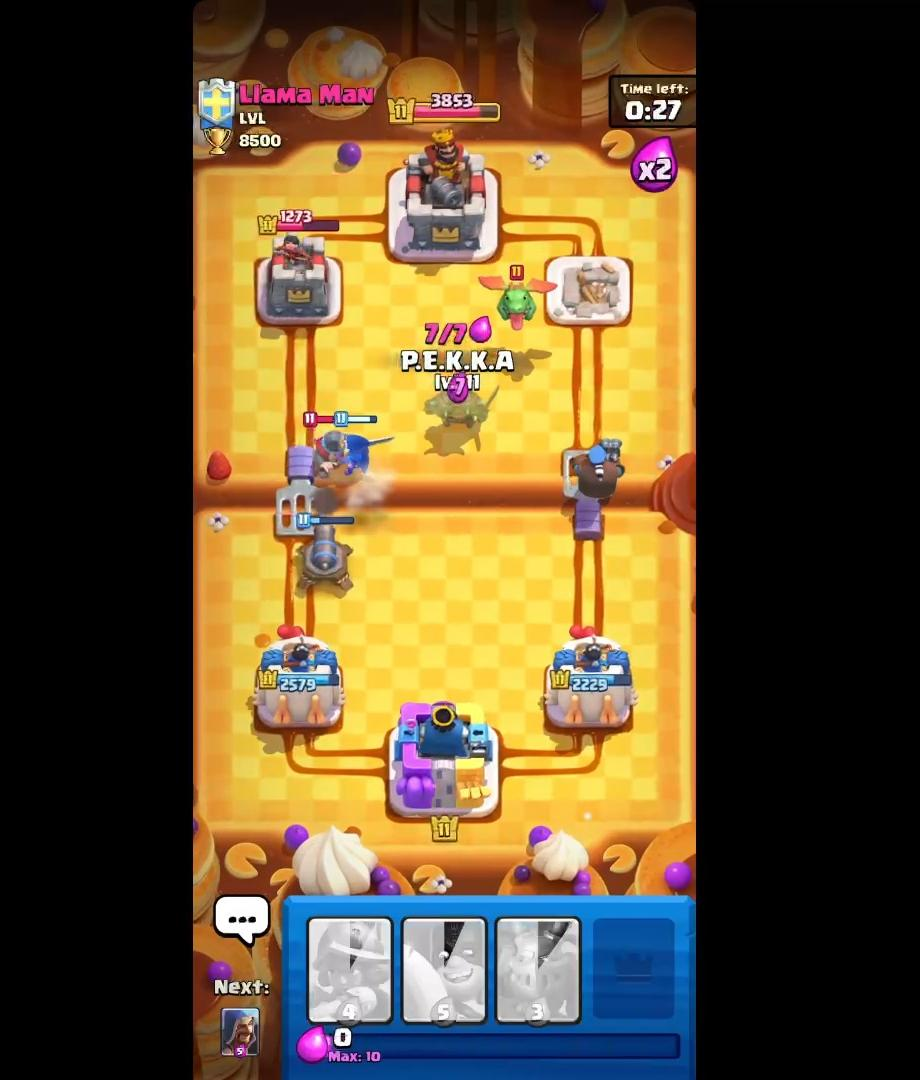Baby Dragon: (477, 262, 562, 334)
